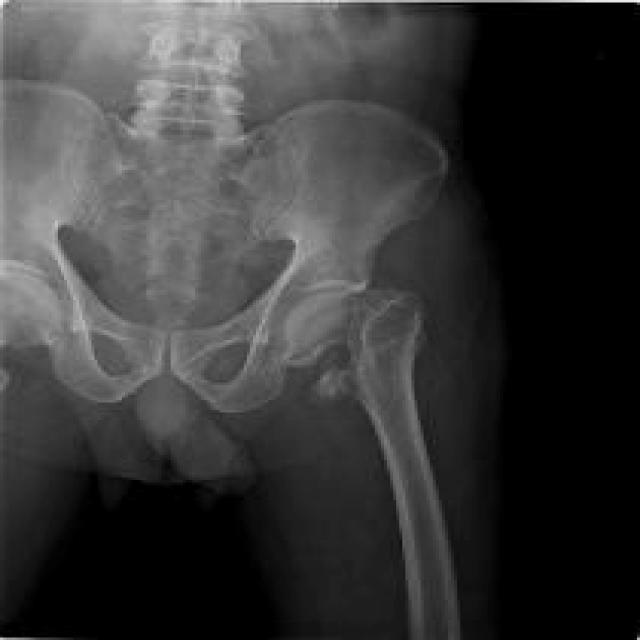normal: (169, 104, 462, 638)
